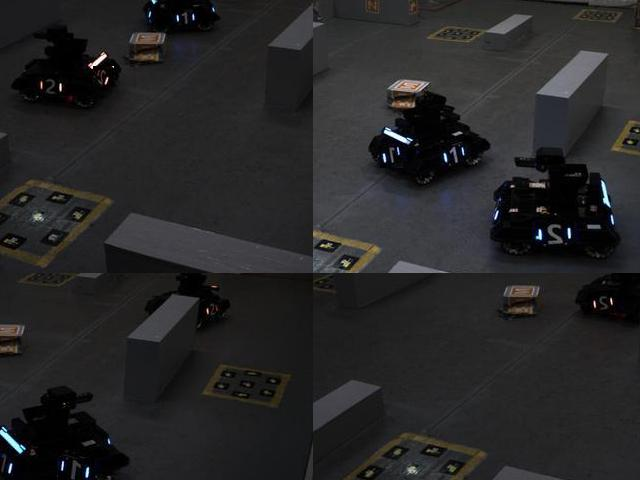armor: (533, 218, 578, 252), (57, 455, 97, 479), (34, 74, 66, 99), (438, 143, 467, 169), (590, 290, 618, 314), (380, 144, 404, 170), (0, 445, 18, 479), (93, 66, 115, 88), (173, 8, 197, 28), (204, 299, 220, 320)
